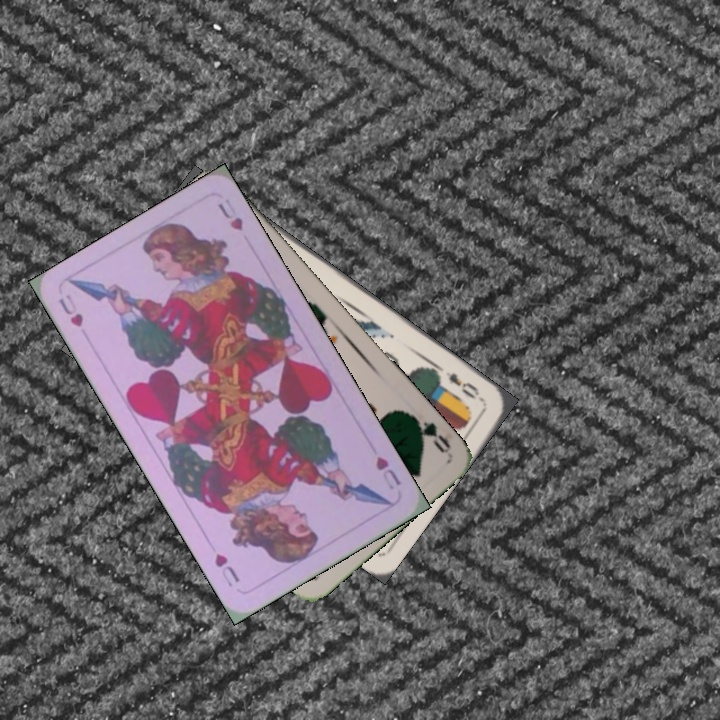EO: (441, 367, 486, 404)
GO: (404, 410, 454, 456)
HU: (371, 452, 404, 492), (54, 290, 86, 330)
